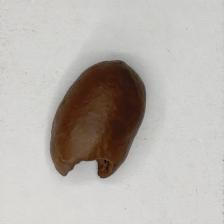NG: (53, 150, 119, 180)
